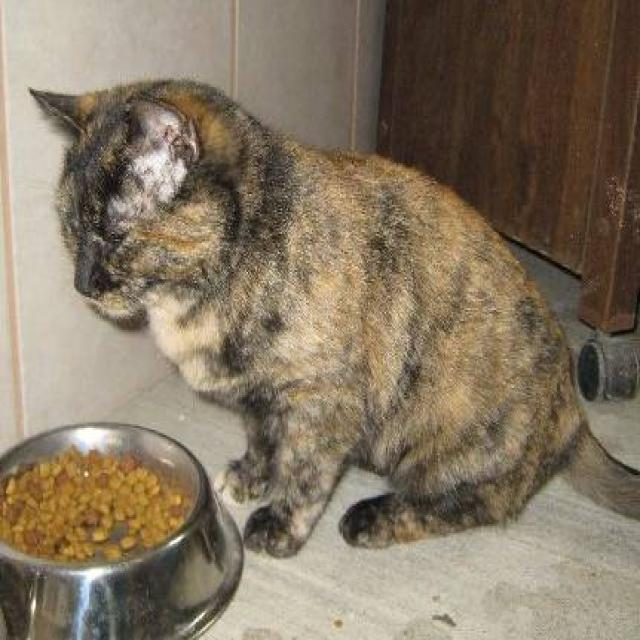cat: (26, 74, 638, 558)
